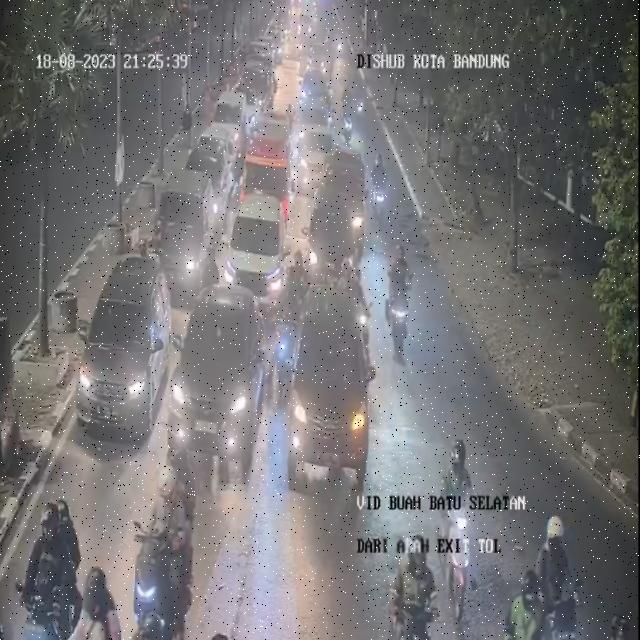cars: (171, 282, 273, 471), (288, 273, 377, 488), (73, 253, 167, 445), (228, 194, 290, 320), (156, 168, 210, 306), (312, 183, 364, 288), (323, 159, 371, 249), (188, 134, 230, 233), (301, 118, 334, 185), (239, 62, 274, 120), (211, 92, 244, 148), (300, 95, 328, 143)
motorcycle: (135, 459, 198, 635), (431, 438, 483, 633), (24, 493, 83, 638), (381, 519, 437, 640), (536, 507, 585, 635), (272, 266, 301, 399), (382, 237, 412, 363), (505, 566, 549, 640), (83, 559, 117, 638), (353, 252, 374, 377), (605, 604, 633, 640)
truck: (245, 108, 293, 221)
